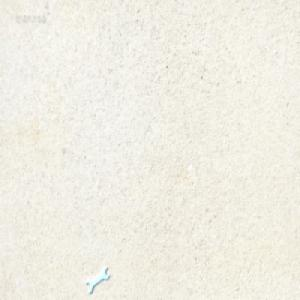Wrench: (89, 266, 113, 294)
